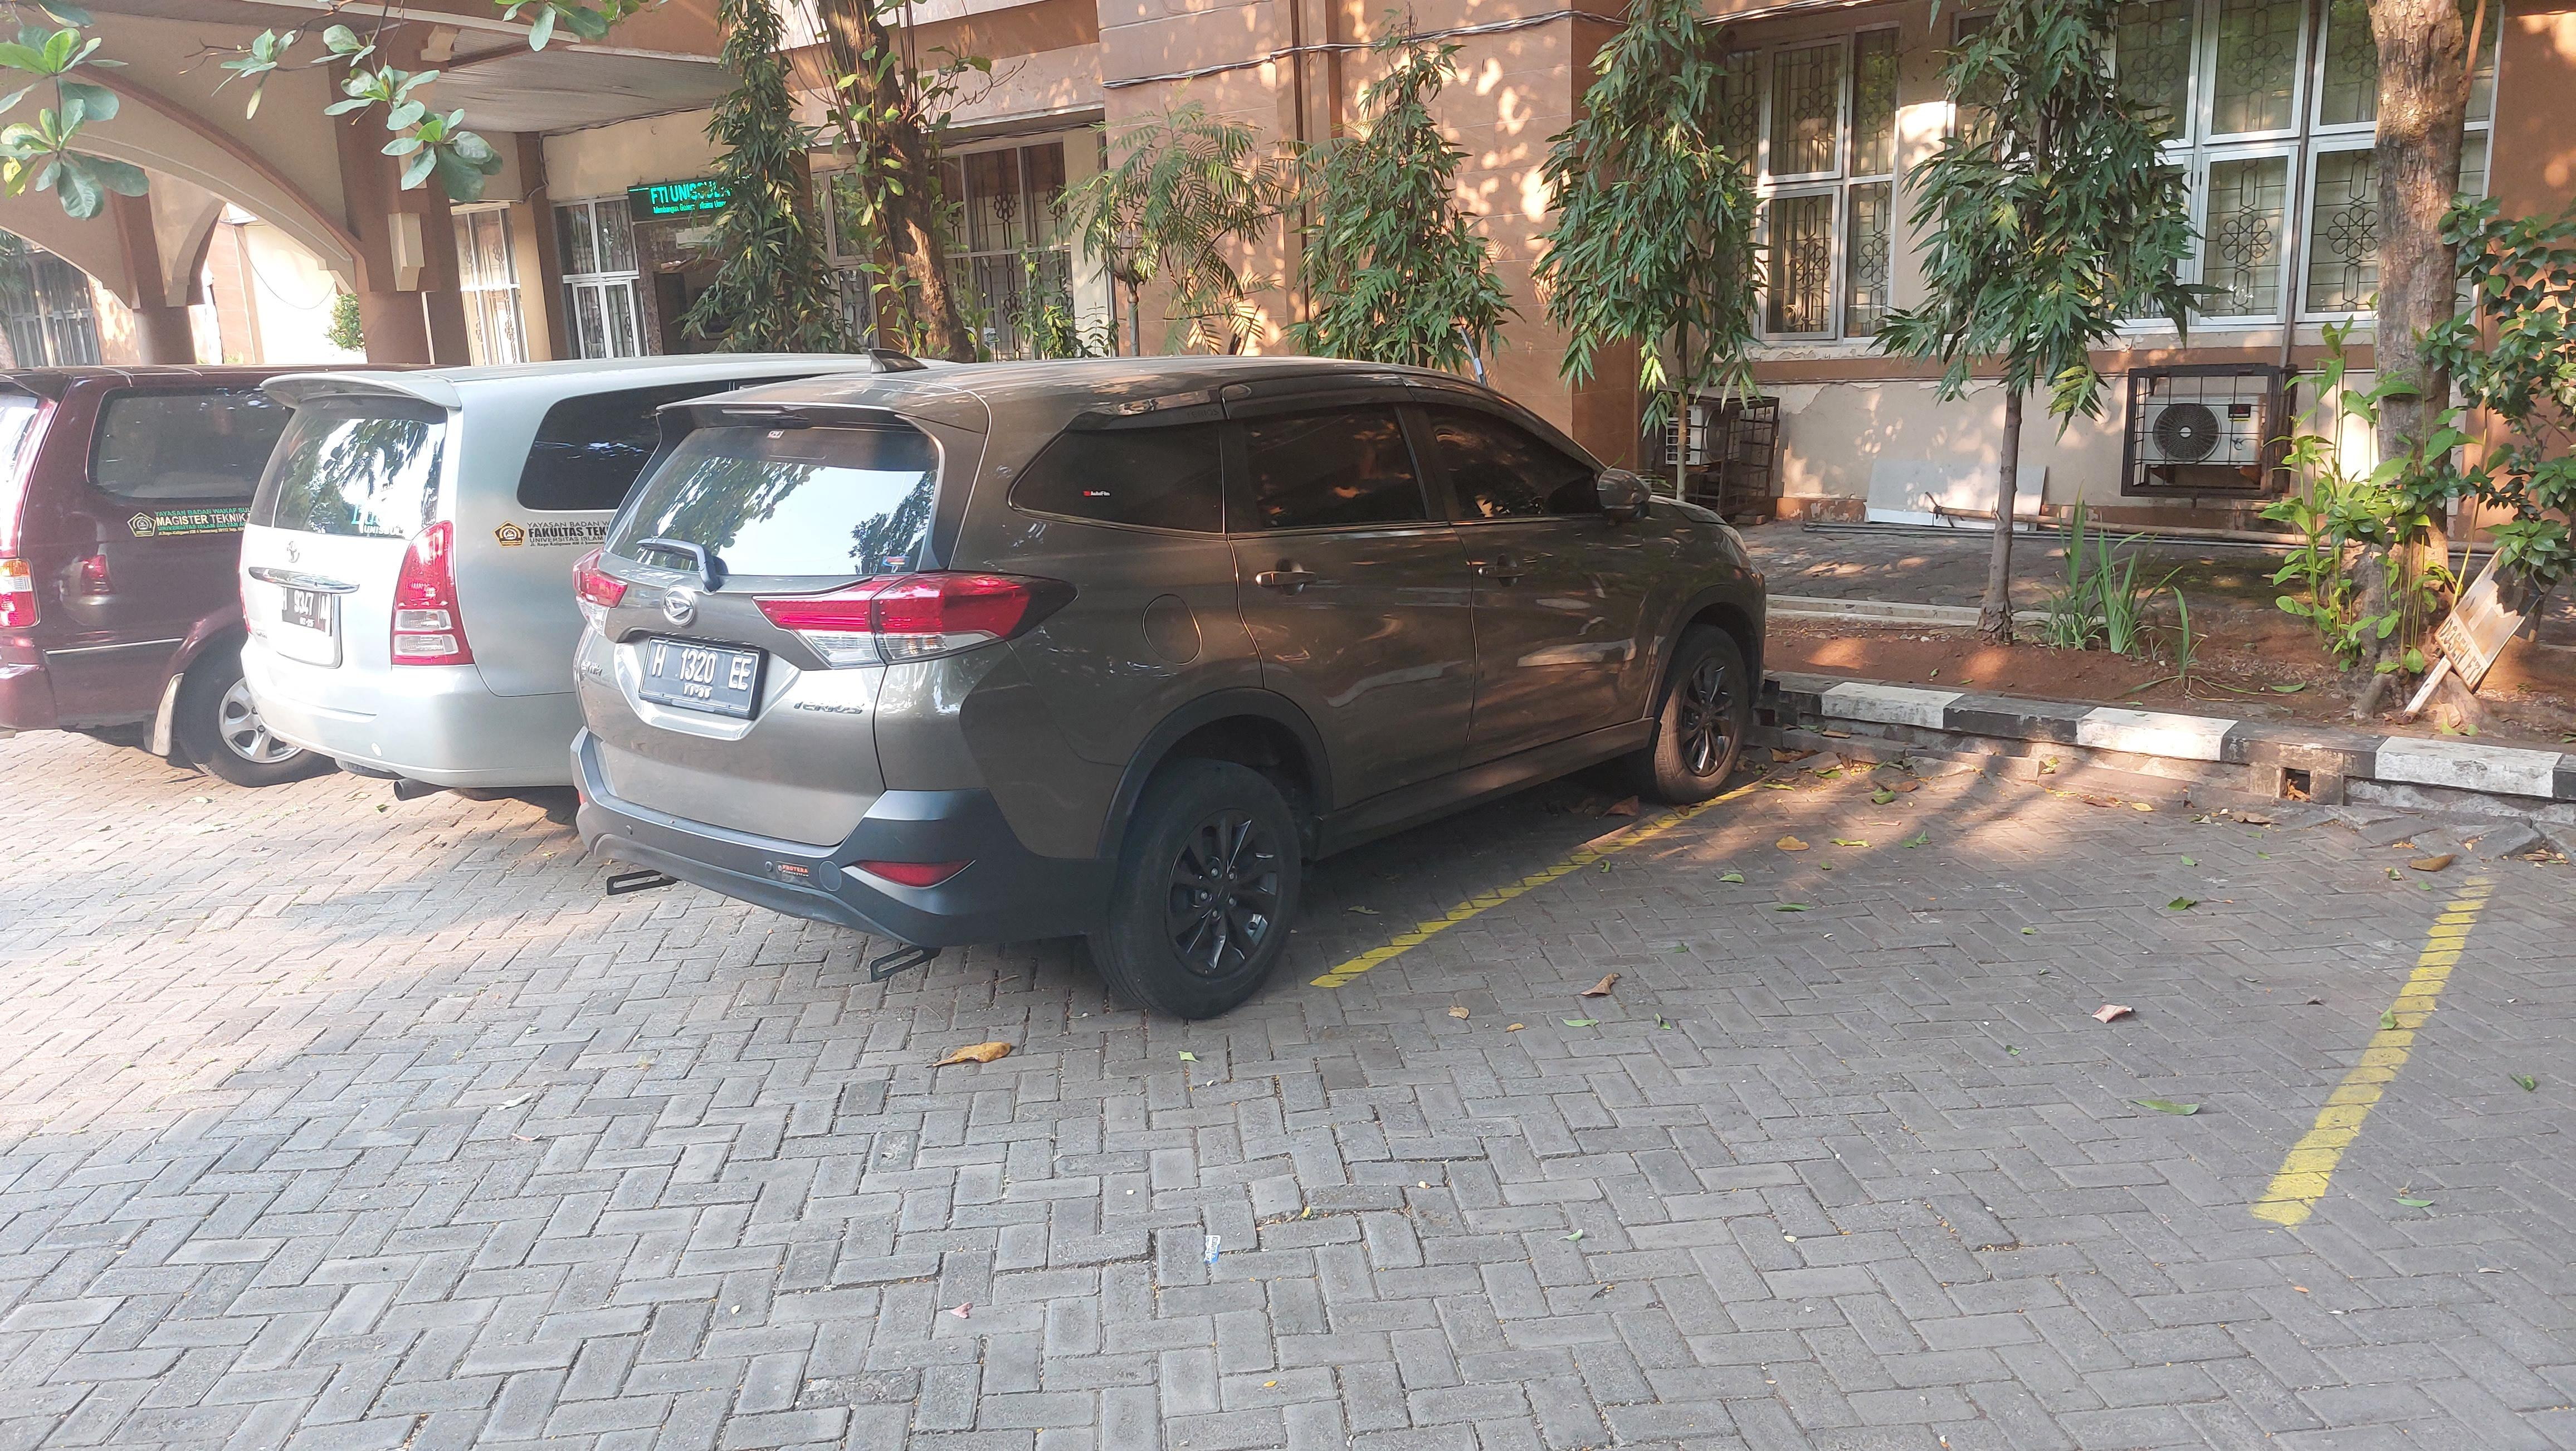empty: (1324, 731, 2517, 1206)
occupied: (564, 353, 1859, 1096), (219, 354, 813, 890)
